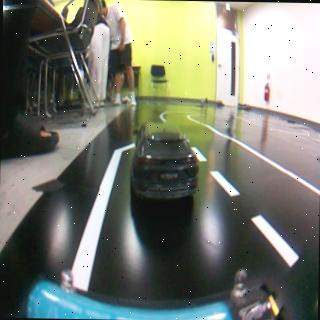car: (131, 120, 200, 200)
